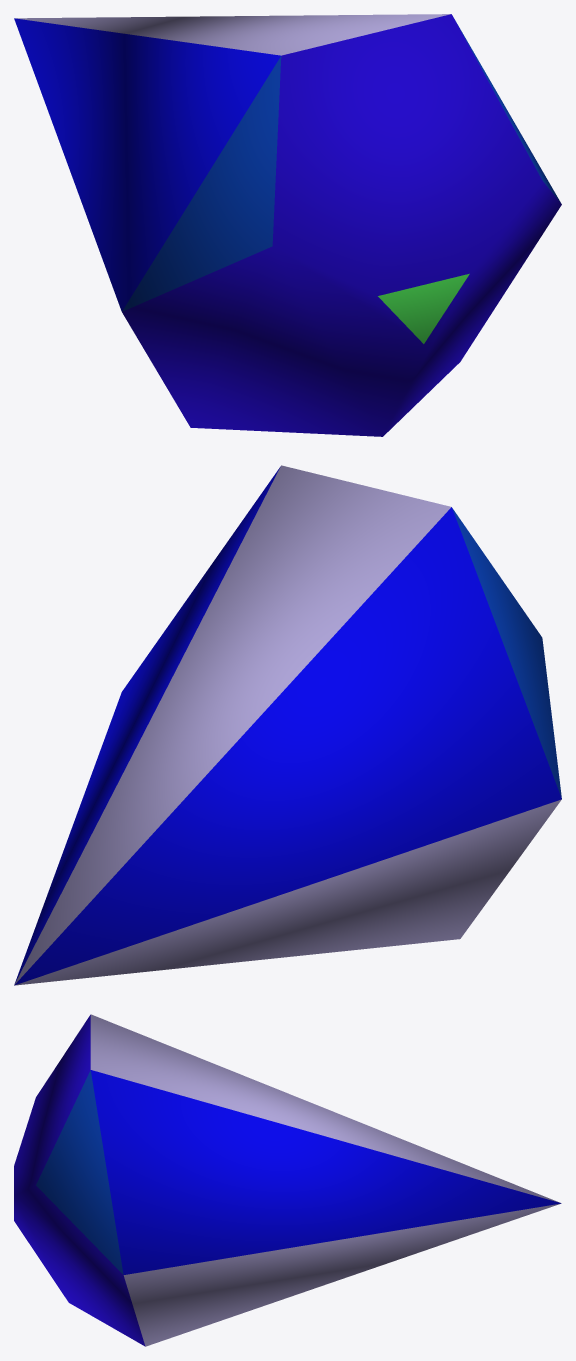
File: boa.fbx
3 renders of one model, top to bottom at view 1: azimuth 30°, elevation 25°; view 2: azimuth 150°, elevation 25°; view 3: azimuth 270°, elevation 25°, orthographic. The views are drawn at different scales.
Parts seen in each view (by area): view 1: boa_None; view 2: boa_None; view 3: boa_None.
Part boxes in pixels (x1,y1,x2,y2): boa_None: (14,14,561,436); boa_None: (14,465,561,985); boa_None: (14,1014,561,1346).
Size of the model in its own units: 1.24 by 1.05 by 2.
